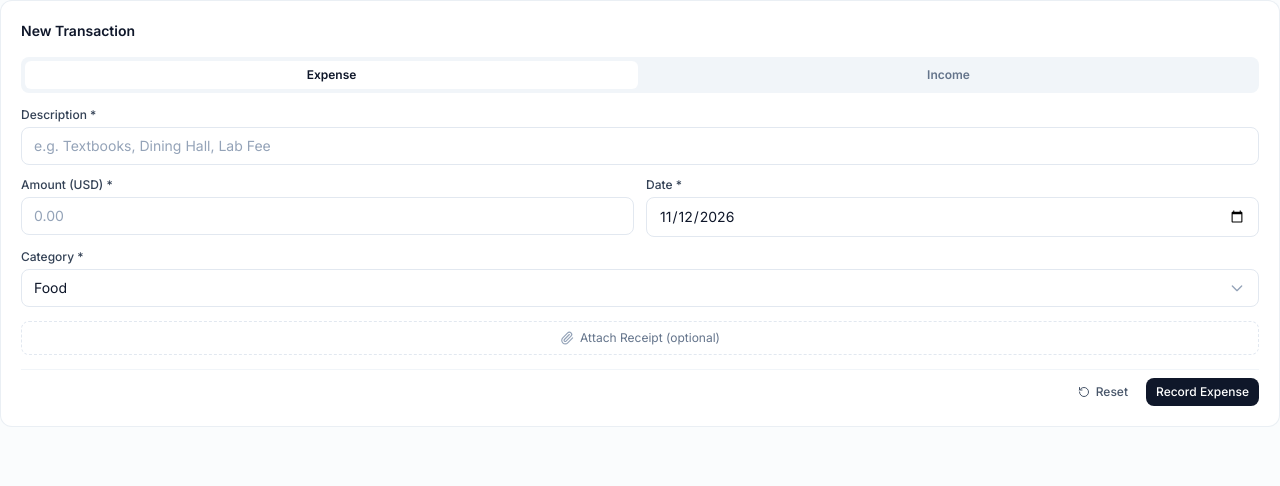
Scenario: TransactionForm Component › displays validation errors when submitting empty form
Click the button "Record Expense" at [1202, 392], box 1146,378 -> 1259,406
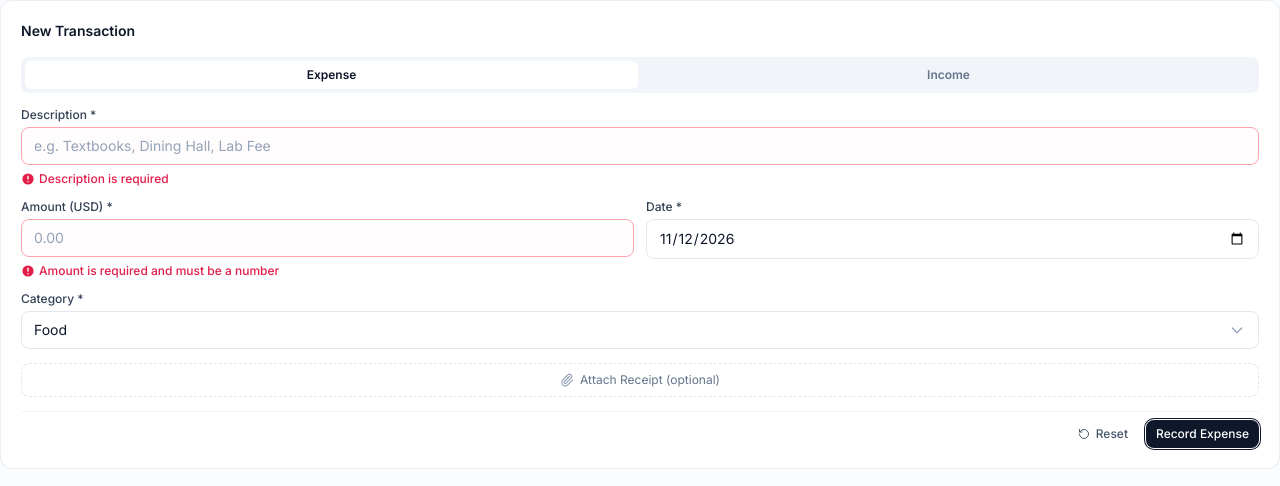
Expected: the text "Description is required" is shown, 21,171 -> 169,186
Expected: the text "Amount is required and must be a number" is shown, 21,263 -> 279,278
